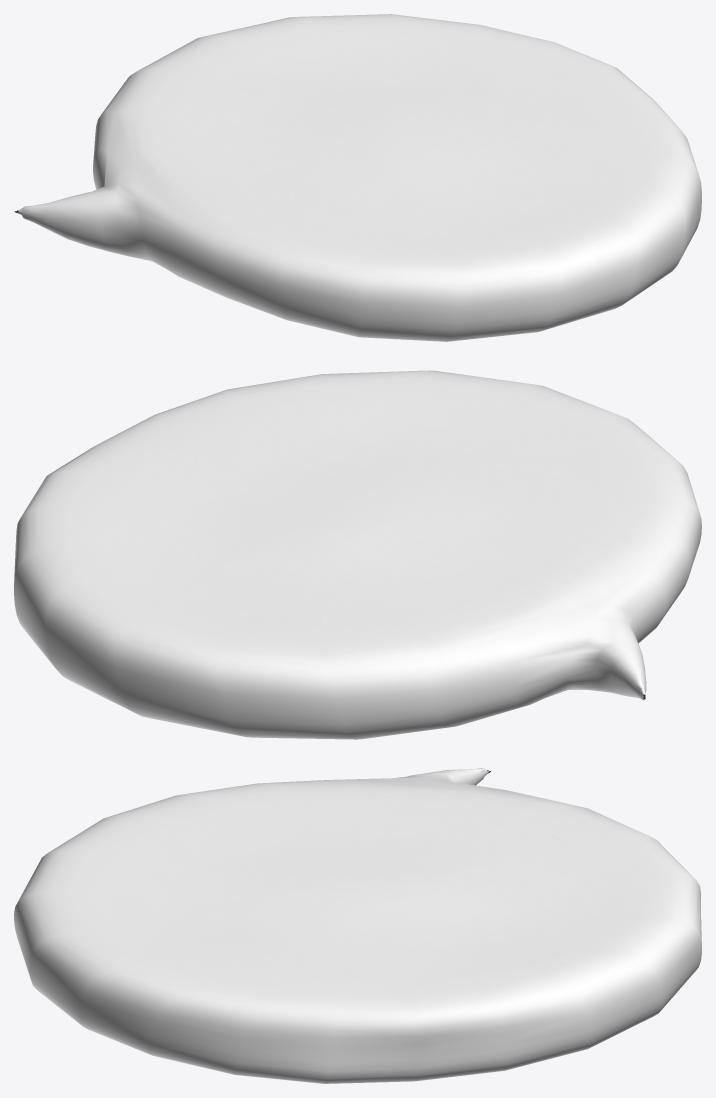
The model's file is chat-bubble.glb.
3 renders of one model, top to bottom at view 1: azimuth 30°, elevation 25°; view 2: azimuth 150°, elevation 25°; view 3: azimuth 270°, elevation 25°, orthographic. The views are drawn at different scales.
Visible parts, largest first — view 1: Object_5; view 2: Object_5; view 3: Object_5.
Part boxes in pixels (x1,y1,x2,y2): Object_5: [14, 14, 701, 341]; Object_5: [14, 370, 701, 739]; Object_5: [14, 768, 701, 1083].
Size of the model in its own units: 1.86 by 0.2496 by 1.9.
Materials: 1 (1 with a texture image).
